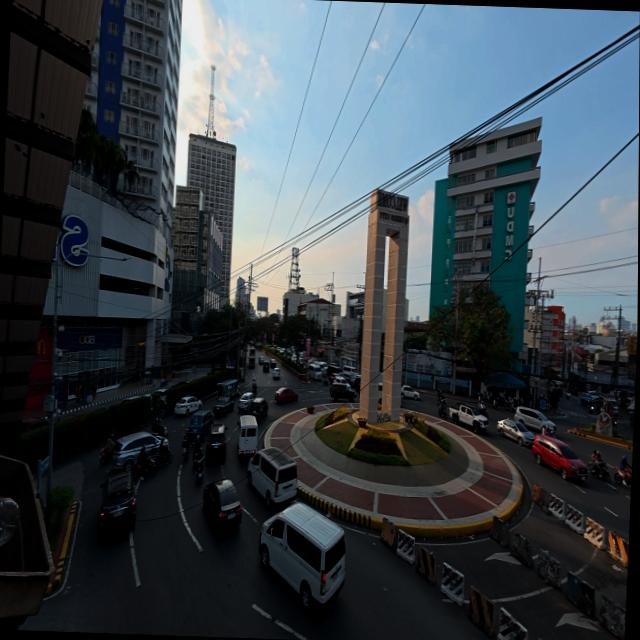car: (98, 466, 142, 540), (111, 431, 171, 477), (529, 436, 589, 481), (198, 476, 242, 536), (497, 408, 553, 446), (511, 406, 554, 432), (496, 418, 535, 444), (238, 388, 269, 414), (329, 378, 358, 402), (206, 394, 232, 419), (171, 394, 200, 415), (274, 386, 298, 405), (580, 392, 601, 406), (402, 386, 421, 401), (339, 357, 356, 370), (625, 400, 635, 414)
trucks: (452, 402, 487, 431)
vans: (252, 500, 347, 610), (245, 444, 301, 510), (236, 412, 263, 458)
